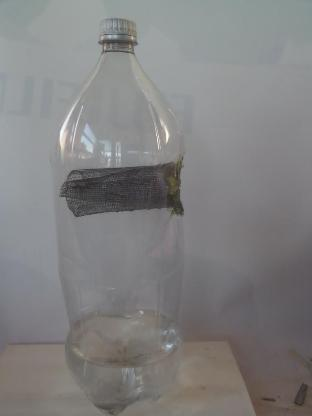Plastic Bottle: (50, 18, 186, 414)
